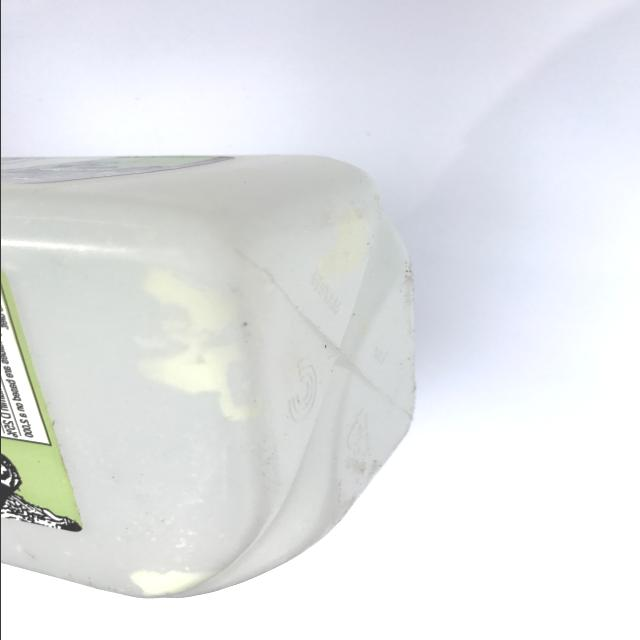Plastic: (0, 142, 441, 612)
